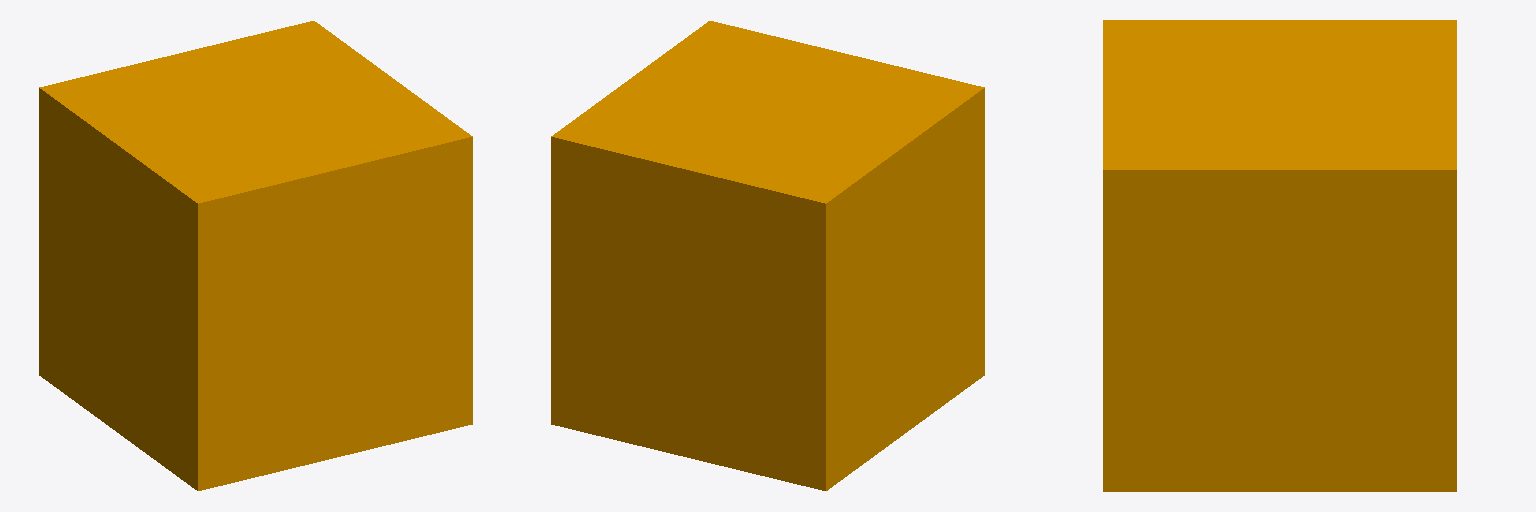
robot.urdf — 1_1B_0:
<robot name="1_1B_0">
  <link name="link">
    <visual>
      <geometry>
        <mesh filename="1_1B_0.obj" scale="1 1 1"/>
      </geometry>
    </visual>
    <collision>
      <geometry>
        <mesh filename="1_1B_0.obj" scale="1 1 1"/>
      </geometry>
    </collision>
    <inertial>
      <mass value="1"/>
      <inertia ixx="1" iyy="1" izz="1" ixy="0" ixz="0" iyz="0"/>
      <origin xyz="0 0 0" rpy="0 0 0"/>
    </inertial>
  </link>
</robot>

--- Render facts (derived) ---
The picture shows the robot from 3 angles, left to right: view 1: azimuth 30°, elevation 25°; view 2: azimuth 150°, elevation 25°; view 3: azimuth 270°, elevation 25°; orthographic projection.
Robot: 1_1B_0 — 1 links, 0 joints (none); root link link; default pose: all joints at 0.
Visible links, largest first — view 1: link; view 2: link; view 3: link.
Boxes of the visible links, box(x1,y1,x2,y2) form: link: box(39, 21, 472, 490); link: box(551, 21, 984, 490); link: box(1103, 20, 1456, 491).
Bounding box of the posed robot: 0.059 × 0.059 × 0.059 m (x, y, z).
Meshes: 1 distinct files referenced, 1 mesh visuals loaded (1 OBJ).